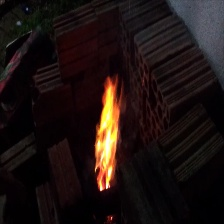fire: (86, 77, 129, 196)
